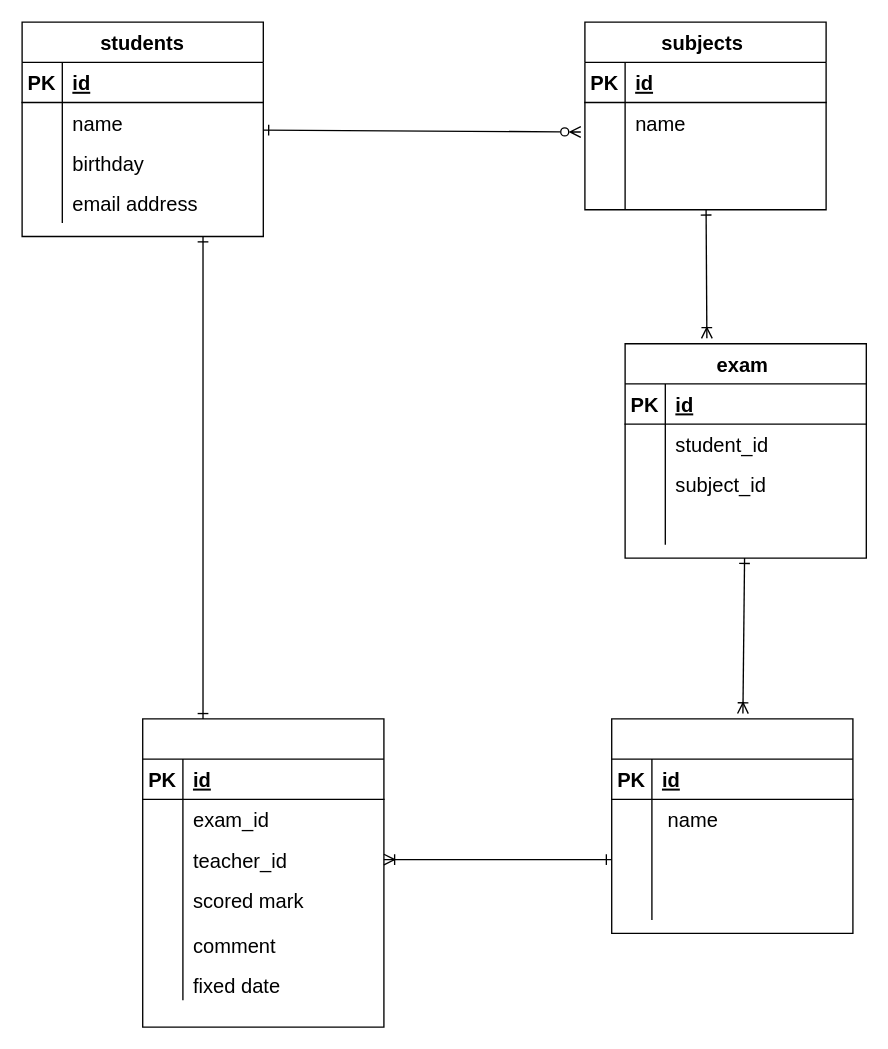
The diagram is 888 pixels wide and 1049 high, and some of its shapes have lost their labels. The box of each missing label's shape, as (x1, y1, x2, y2) in pixels:
results: (141, 718, 384, 1027)
teacher: (610, 718, 853, 933)
